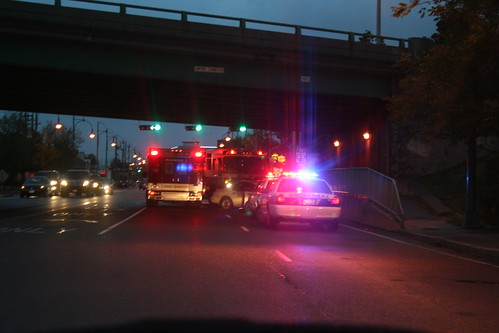ambulance: (143, 144, 209, 212)
bridge: (1, 1, 441, 153)
police car: (256, 164, 351, 230)
street: (1, 201, 499, 333)
